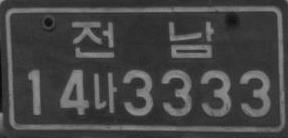1: (21, 67, 50, 116)
3: (239, 68, 272, 119), (160, 68, 193, 117), (199, 69, 232, 118), (122, 68, 154, 117)
4: (59, 68, 90, 116)
나: (92, 71, 118, 114)
전남_D: (70, 20, 214, 59)
